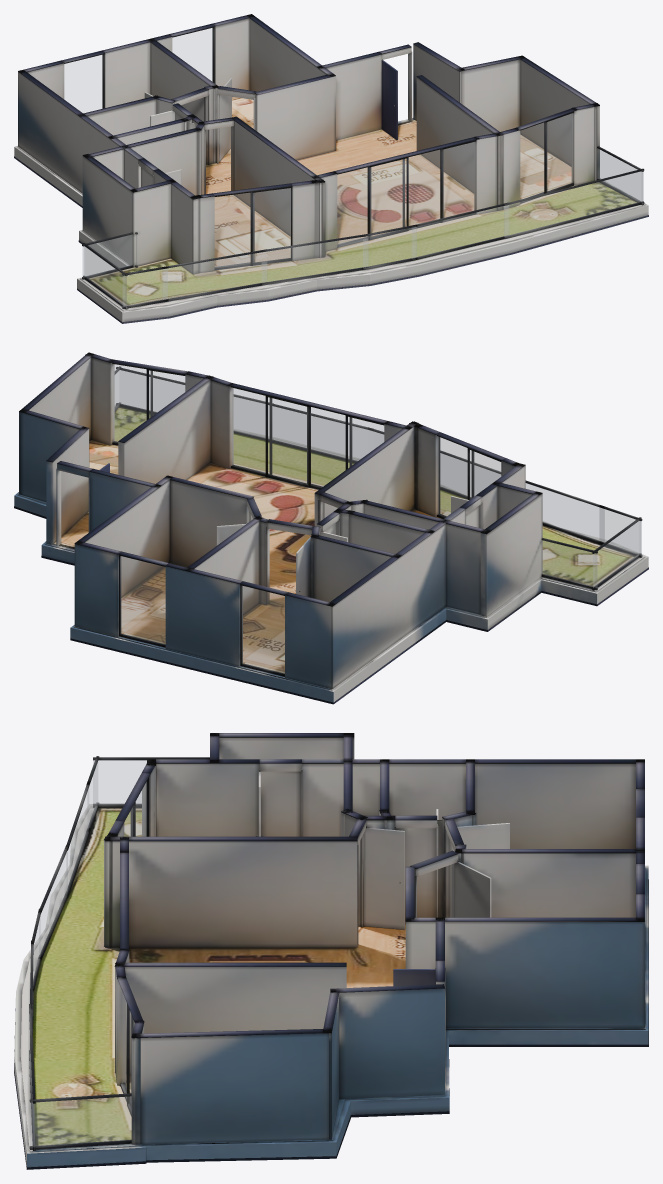
3 renders of one model, top to bottom at view 1: azimuth 30°, elevation 25°; view 2: azimuth 150°, elevation 25°; view 3: azimuth 270°, elevation 25°, orthographic. The views are drawn at different scales.
Visible parts, largest first — view 1: plan, glass2_m, glass4_m, railg4_m, glass3_m, railg7_m, railg8_m, railg5_m, glass0_m, railg6_m, railg0_m, glass1_m (+3 smaller); view 2: plan, glass2_m, glass1_m, glass3_m, glass0_m, glass4_m, railg5_m, railg4_m, railg8_m, railg0_m, railg2_m, railg9_m (+1 smaller); view 3: plan, railg3_m, railg2_m, railg7_m, railg8_m, glass3_m, glass4_m.
Boxes of the visible parts, x1,y1,x2,y2 form: plan: (14, 14, 648, 323); glass2_m: (337, 142, 475, 244); glass4_m: (215, 188, 290, 267); railg4_m: (504, 172, 643, 236); glass3_m: (520, 113, 572, 198); railg7_m: (262, 236, 368, 282); railg8_m: (162, 252, 266, 299); railg5_m: (412, 205, 508, 258); glass0_m: (64, 55, 102, 112); railg6_m: (363, 227, 416, 267); railg0_m: (82, 235, 132, 276); glass1_m: (172, 28, 212, 81); plan: (14, 352, 648, 704); glass2_m: (232, 388, 383, 487); glass1_m: (120, 556, 165, 644); glass3_m: (113, 364, 184, 442); glass0_m: (242, 586, 284, 673); glass4_m: (438, 437, 500, 516); railg5_m: (268, 405, 367, 460); railg4_m: (120, 370, 264, 437); railg8_m: (526, 483, 604, 542); railg0_m: (542, 540, 597, 587); railg2_m: (593, 521, 640, 587); railg9_m: (599, 508, 641, 555); plan: (14, 733, 648, 1169); railg3_m: (30, 1096, 131, 1146); railg2_m: (93, 760, 146, 803); railg7_m: (39, 851, 67, 956); railg8_m: (66, 789, 88, 893); glass3_m: (122, 992, 134, 1103); glass4_m: (124, 784, 145, 836).
Size of the model in its own units: 15.86 by 2.62 by 12.16.
Materials: 2 (1 with a texture image).
